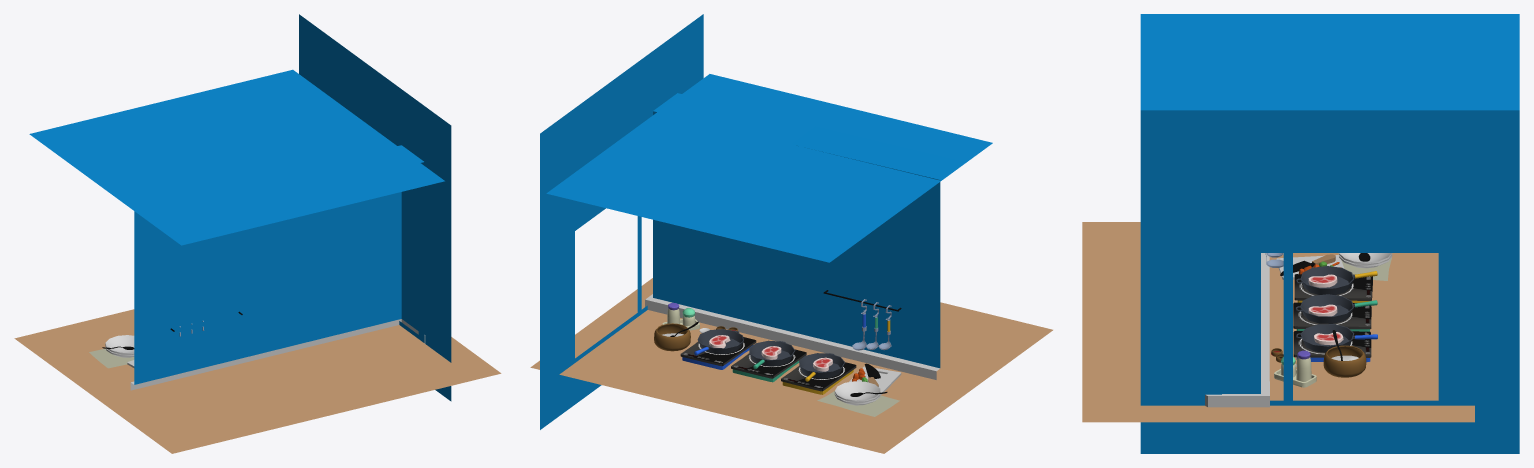
Rendered from 190715_CLP_game(8).fbx.
3 renders of one model, left to right at view 1: azimuth 30°, elevation 25°; view 2: azimuth 150°, elevation 25°; view 3: azimuth 270°, elevation 25°, orthographic. The views are drawn at different scales.
Parts seen in each view (by area): view 1: Wall_A, wall_top, table, Wall_B; view 2: wall_top, Wall_A, table, Wall_B, bowl_A, induction_cooker_C1, induction_cooker_B2, frying_pan_B, frying_pan_A, frying_pan_C, towel, Induction_cooker_A2 (+1 smaller); view 3: Wall_B, wall_top, table, Wall_A, frying_pan_B, frying_pan_C, bowl_A, frying_pan_A, induction_cooker_B2, induction_cooker_C1, Induction_cooker_A2, seasoning (+1 smaller).
Part boxes in pixels (left/top/right/bottom): Wall_A: left=130, top=145, right=425, bottom=390; wall_top: left=29, top=69, right=444, bottom=245; table: left=14, top=309, right=501, bottom=453; Wall_B: left=299, top=14, right=451, bottom=401; wall_top: left=546, top=74, right=992, bottom=262; Wall_A: left=645, top=93, right=964, bottom=379; table: left=530, top=278, right=1052, bottom=453; Wall_B: left=540, top=14, right=703, bottom=429; bowl_A: left=654, top=323, right=690, bottom=351; induction_cooker_C1: left=781, top=362, right=856, bottom=391; induction_cooker_B2: left=731, top=349, right=806, bottom=378; frying_pan_B: left=749, top=340, right=795, bottom=369; frying_pan_A: left=694, top=329, right=743, bottom=355; frying_pan_C: left=799, top=353, right=844, bottom=381; towel: left=817, top=391, right=899, bottom=416; Induction_cooker_A2: left=680, top=337, right=756, bottom=366; Wall_B: left=1140, top=110, right=1519, bottom=453; wall_top: left=1140, top=14, right=1519, bottom=110; table: left=1082, top=222, right=1474, bottom=422; Wall_A: left=1202, top=14, right=1269, bottom=407; frying_pan_B: left=1295, top=294, right=1377, bottom=323; frying_pan_C: left=1296, top=266, right=1377, bottom=294; bowl_A: left=1323, top=345, right=1366, bottom=377; frying_pan_A: left=1296, top=324, right=1377, bottom=352; induction_cooker_B2: left=1293, top=302, right=1371, bottom=329; induction_cooker_C1: left=1294, top=274, right=1372, bottom=300; Induction_cooker_A2: left=1293, top=331, right=1371, bottom=357; seasoning: left=1280, top=350, right=1311, bottom=381.
Size of the model in its own units: 500 by 400 by 462.
24 materials, 4 textured.
